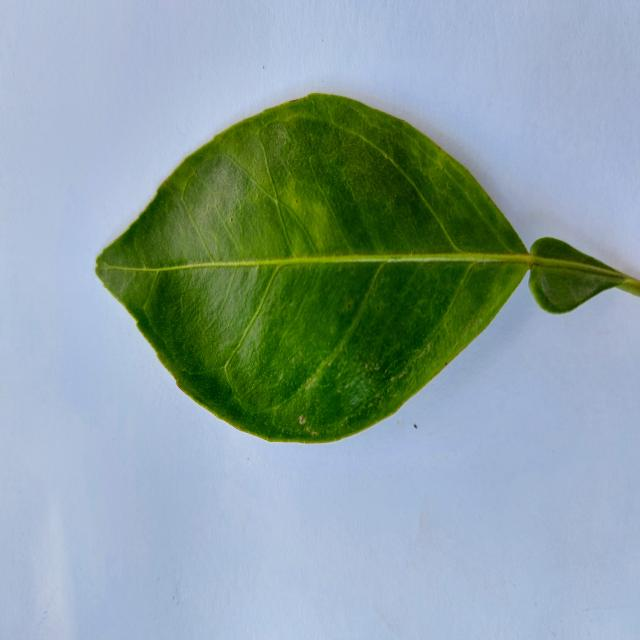greening: (96, 94, 631, 443)
